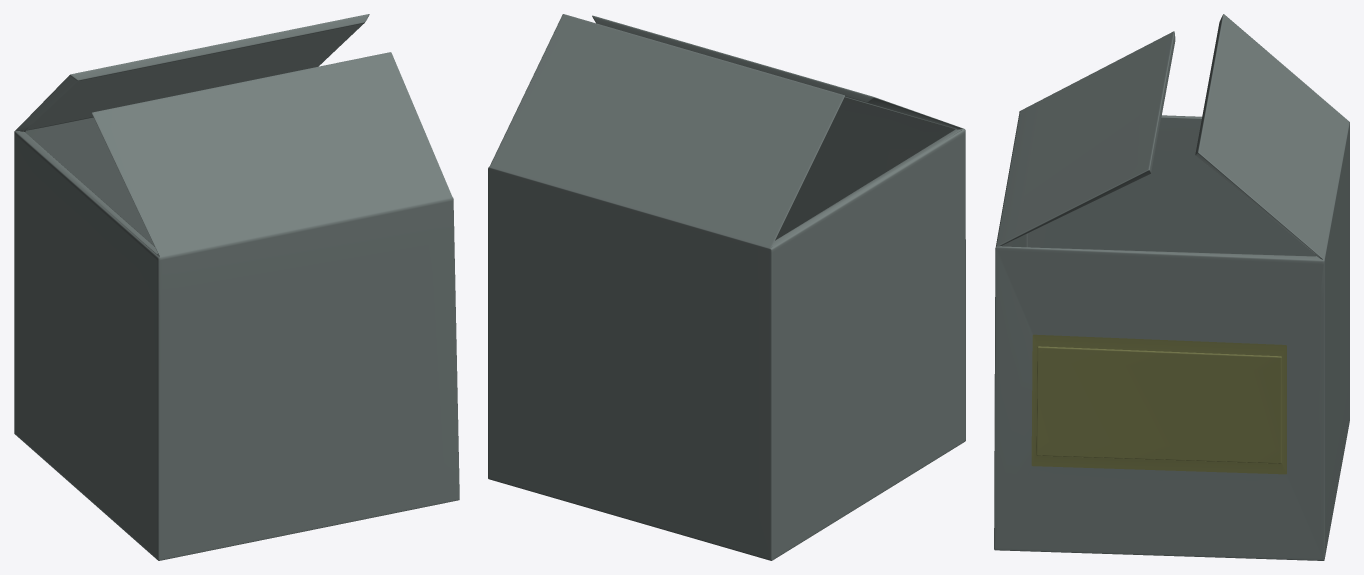
File: Caja1_high.fbx
3 renders of one model, left to right at view 1: azimuth 30°, elevation 25°; view 2: azimuth 150°, elevation 25°; view 3: azimuth 270°, elevation 25°, orthographic. The views are drawn at different scales.
Parts seen in each view (by area): view 1: Caja1_high; view 2: Caja1_high; view 3: Caja1_high.
Part boxes in pixels (x1,y1,x2,y2): Caja1_high: [14, 14, 459, 560]; Caja1_high: [488, 14, 965, 560]; Caja1_high: [994, 14, 1349, 560].
Bounding box in the file's own units: 3.22 × 4.04 × 3.22.
